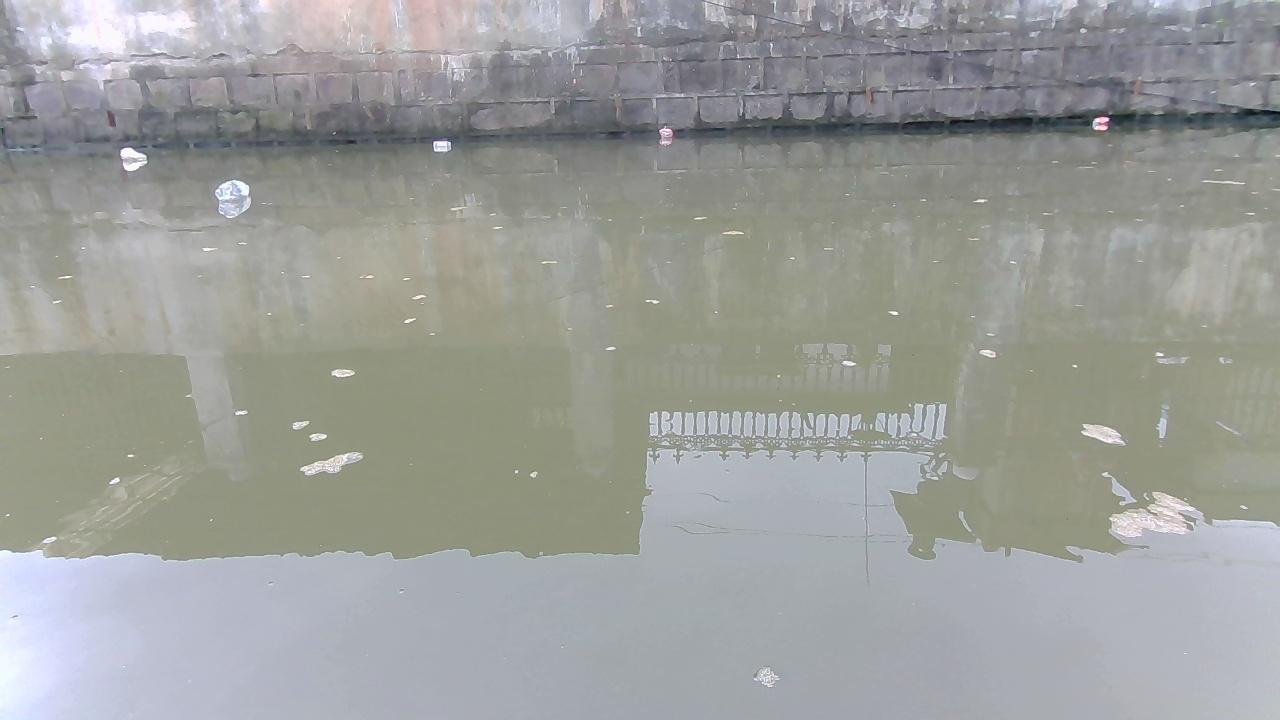bottle: (213, 176, 251, 206), (117, 146, 148, 163), (427, 135, 453, 152), (653, 125, 672, 142), (1093, 113, 1108, 132)
